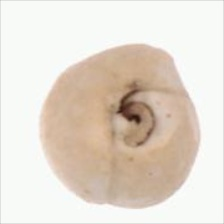L3: (102, 85, 166, 149)
L4: (39, 44, 201, 209)
